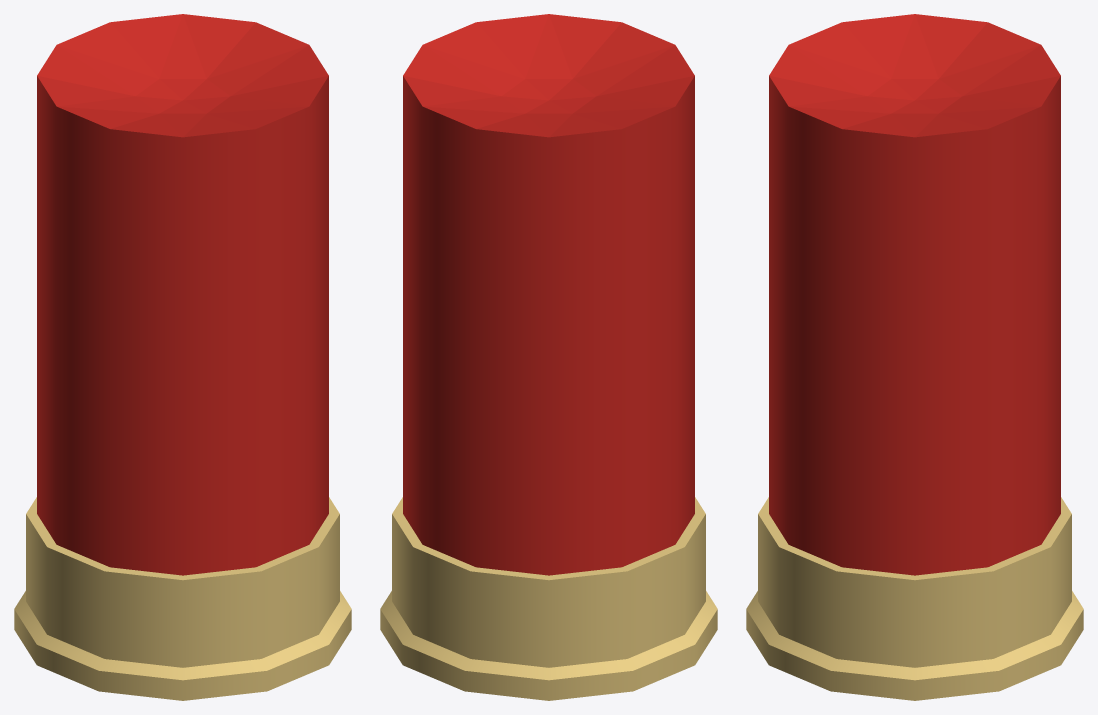
File: shell.glb
3 renders of one model, left to right at view 1: azimuth 30°, elevation 25°; view 2: azimuth 150°, elevation 25°; view 3: azimuth 270°, elevation 25°, orthographic.
Visible parts, largest first — view 1: Shell; view 2: Shell; view 3: Shell.
Boxes of the visible parts, x1,y1,x2,y2 form: Shell: (14, 14, 351, 700); Shell: (380, 14, 717, 700); Shell: (746, 14, 1083, 700).
Size of the model in its own units: 0.037 by 0.067 by 0.037.
